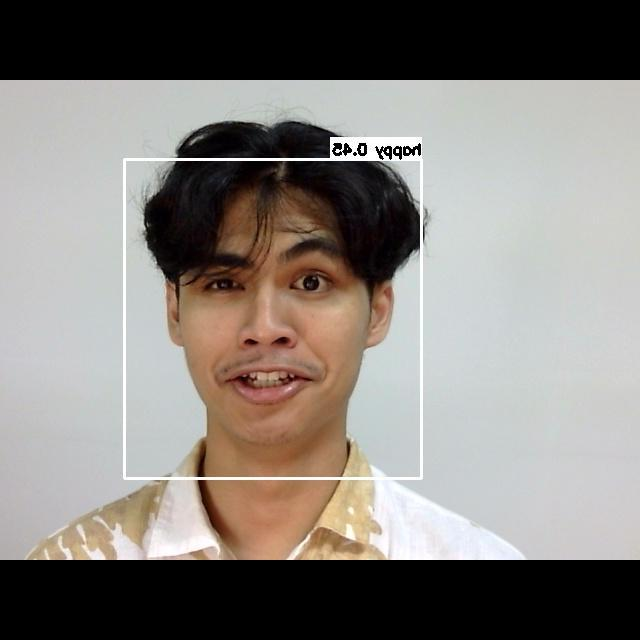Fear: (159, 215, 391, 434)
